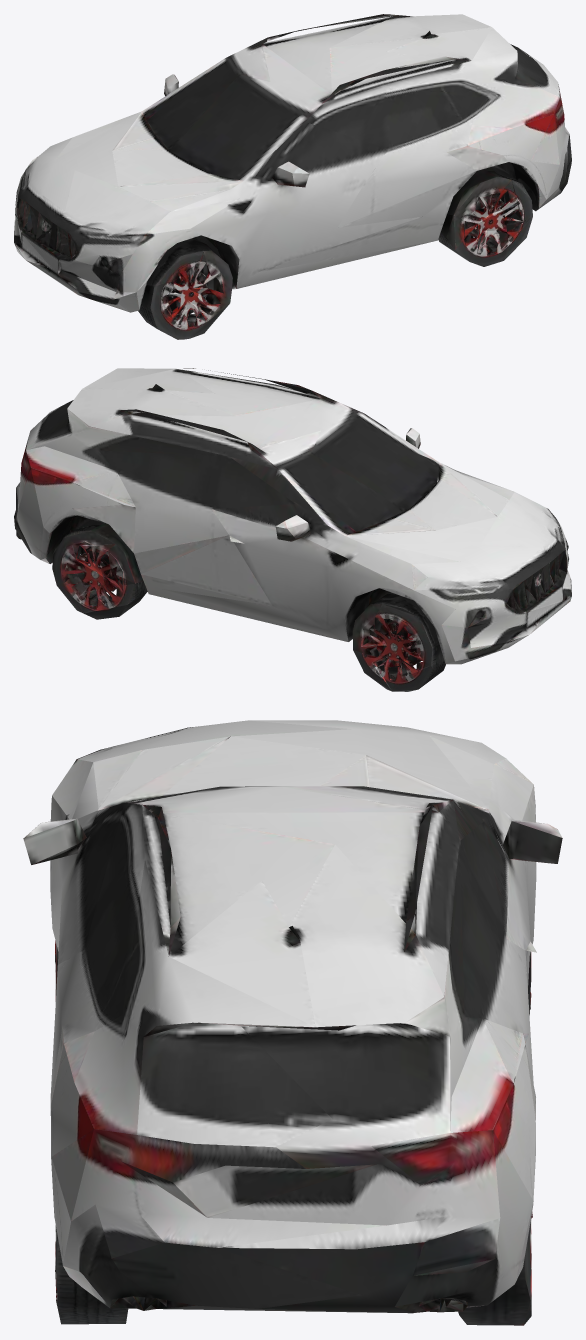
3 renders of one model, top to bottom at view 1: azimuth 30°, elevation 25°; view 2: azimuth 150°, elevation 25°; view 3: azimuth 270°, elevation 25°, orthographic. The views are drawn at different scales.
Visible parts, largest first — view 1: output_unwrapped; view 2: output_unwrapped; view 3: output_unwrapped.
Part boxes in pixels (x1=…): output_unwrapped: x1=14, y1=14, x2=571, y2=339; output_unwrapped: x1=14, y1=368, x2=571, y2=691; output_unwrapped: x1=23, y1=720, x2=562, y2=1325.
Bounding box in the file's own units: 1.99 × 0.7375 × 0.9222.
1 material, 1 textured.
